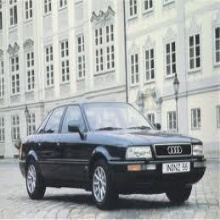no damage: (17, 98, 206, 209)
